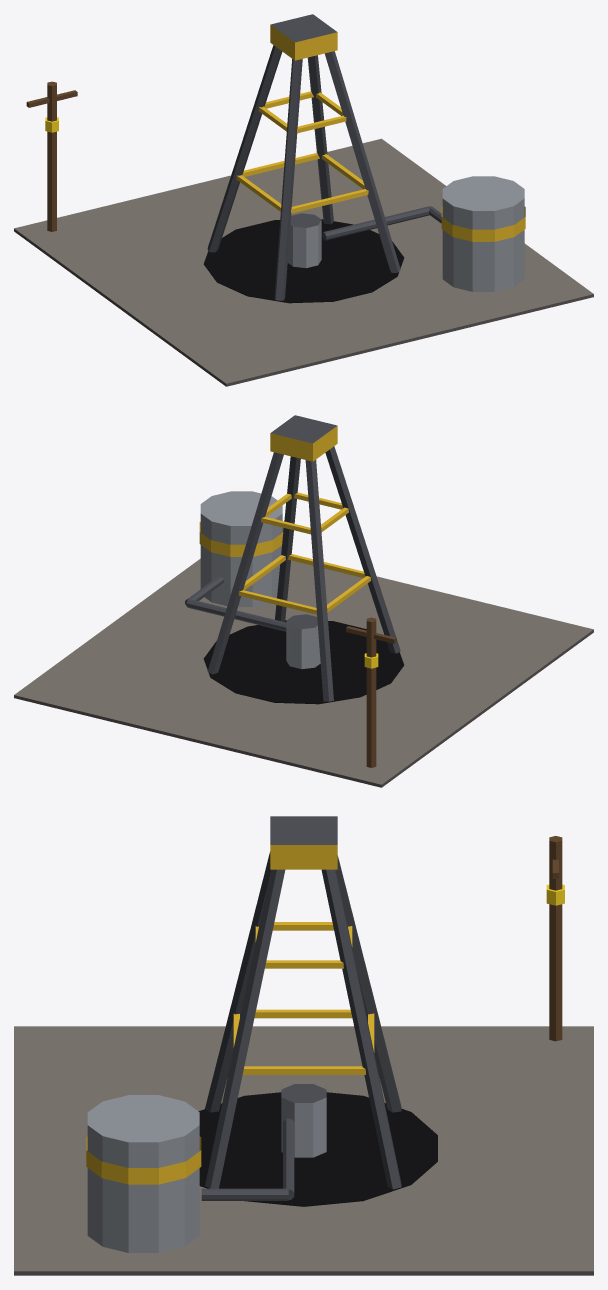
Rendered from oil_well_2.obj.
The picture shows the model from 3 angles, top to bottom: view 1: azimuth 30°, elevation 25°; view 2: azimuth 150°, elevation 25°; view 3: azimuth 270°, elevation 25°; orthographic projection. The views are drawn at different scales.
Size of the model in its own units: 3.8 by 2.33 by 3.8.
